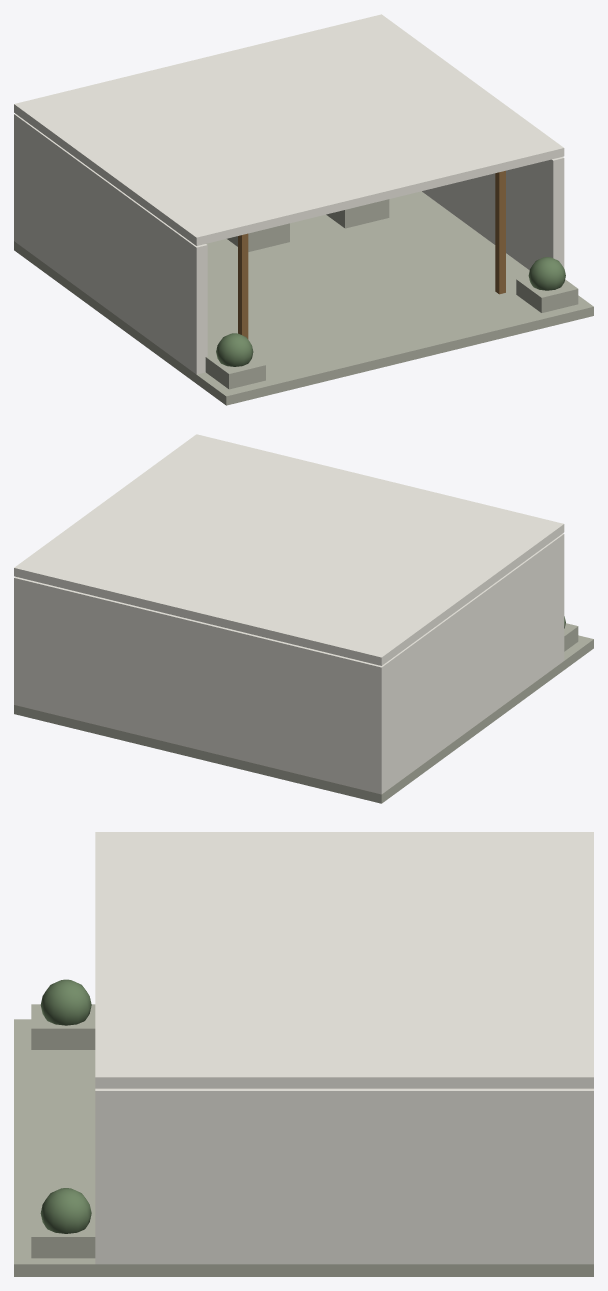
Rendered from import-test.glb.
3 views of the same model, one above another, from view 1: azimuth 30°, elevation 25°; view 2: azimuth 150°, elevation 25°; view 3: azimuth 270°, elevation 25° (orthographic). The views are drawn at different scales.
Visible parts, largest first — view 1: White canopy, 10m square floor, West wall, East wall, Planter (×2), Entrance column (×2), Synthetic 10m white exhibition pavilion, Exhibition plinth (×2); view 2: White canopy, Rear gallery wall, West wall, 10m square floor, East wall; view 3: White canopy, East wall, 10m square floor, Planter (×2), Synthetic 10m white exhibition pavilion, Rear gallery wall.
Part boxes in pixels (x1,y1,x2,y2): White canopy: (14, 14, 564, 245); 10m square floor: (14, 191, 593, 405); West wall: (14, 114, 207, 374); East wall: (422, 157, 564, 269); Planter (×2): (205, 276, 578, 389); Entrance column (×2): (238, 170, 505, 339); Synthetic 10m white exhibition pavilion: (216, 257, 565, 366); Exhibition plinth (×2): (227, 199, 389, 251); White canopy: (14, 434, 564, 665); Rear gallery wall: (25, 579, 387, 793); West wall: (370, 533, 564, 794); 10m square floor: (14, 635, 593, 803); East wall: (14, 576, 25, 707); White canopy: (95, 832, 593, 1088); East wall: (95, 1088, 593, 1264); 10m square floor: (14, 1019, 593, 1276); Planter (×2): (31, 1004, 95, 1258); Synthetic 10m white exhibition pavilion: (40, 979, 91, 1233); Rear gallery wall: (576, 1089, 593, 1264).
Size of the model in its own units: 10 by 3.8 by 10.
